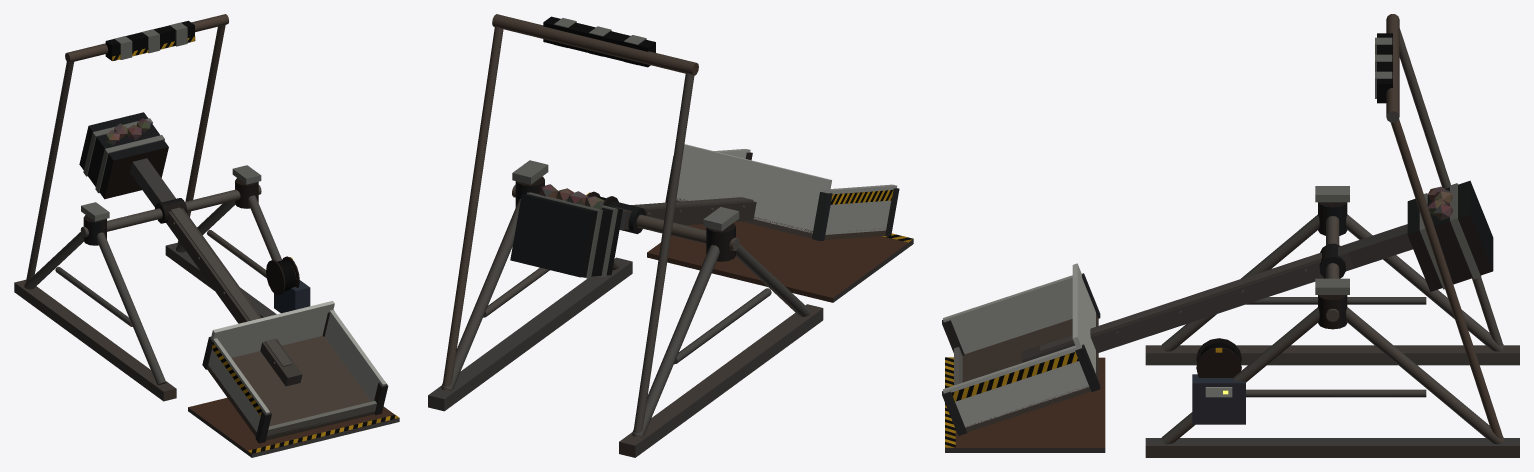
File: catapult.glb
The picture shows the model from 3 angles, left to right: view 1: azimuth 30°, elevation 25°; view 2: azimuth 150°, elevation 25°; view 3: azimuth 270°, elevation 25°; orthographic projection. The views are drawn at different scales.
Parts seen in each view (by area): view 1: Arm, Frame, Winch; view 2: Frame, Arm; view 3: Frame, Arm, Winch.
Part boxes in pixels (box(x1,y1,x2,y2)): Arm: box(79, 112, 388, 443); Frame: box(14, 14, 399, 457); Winch: box(266, 256, 299, 295); Frame: box(428, 14, 913, 457); Arm: box(510, 144, 899, 278); Frame: box(945, 14, 1519, 457); Arm: box(942, 180, 1493, 435); Winch: box(1196, 338, 1241, 377).
Bounding box in the file's own units: 1.9 × 2.88 × 4.32.
